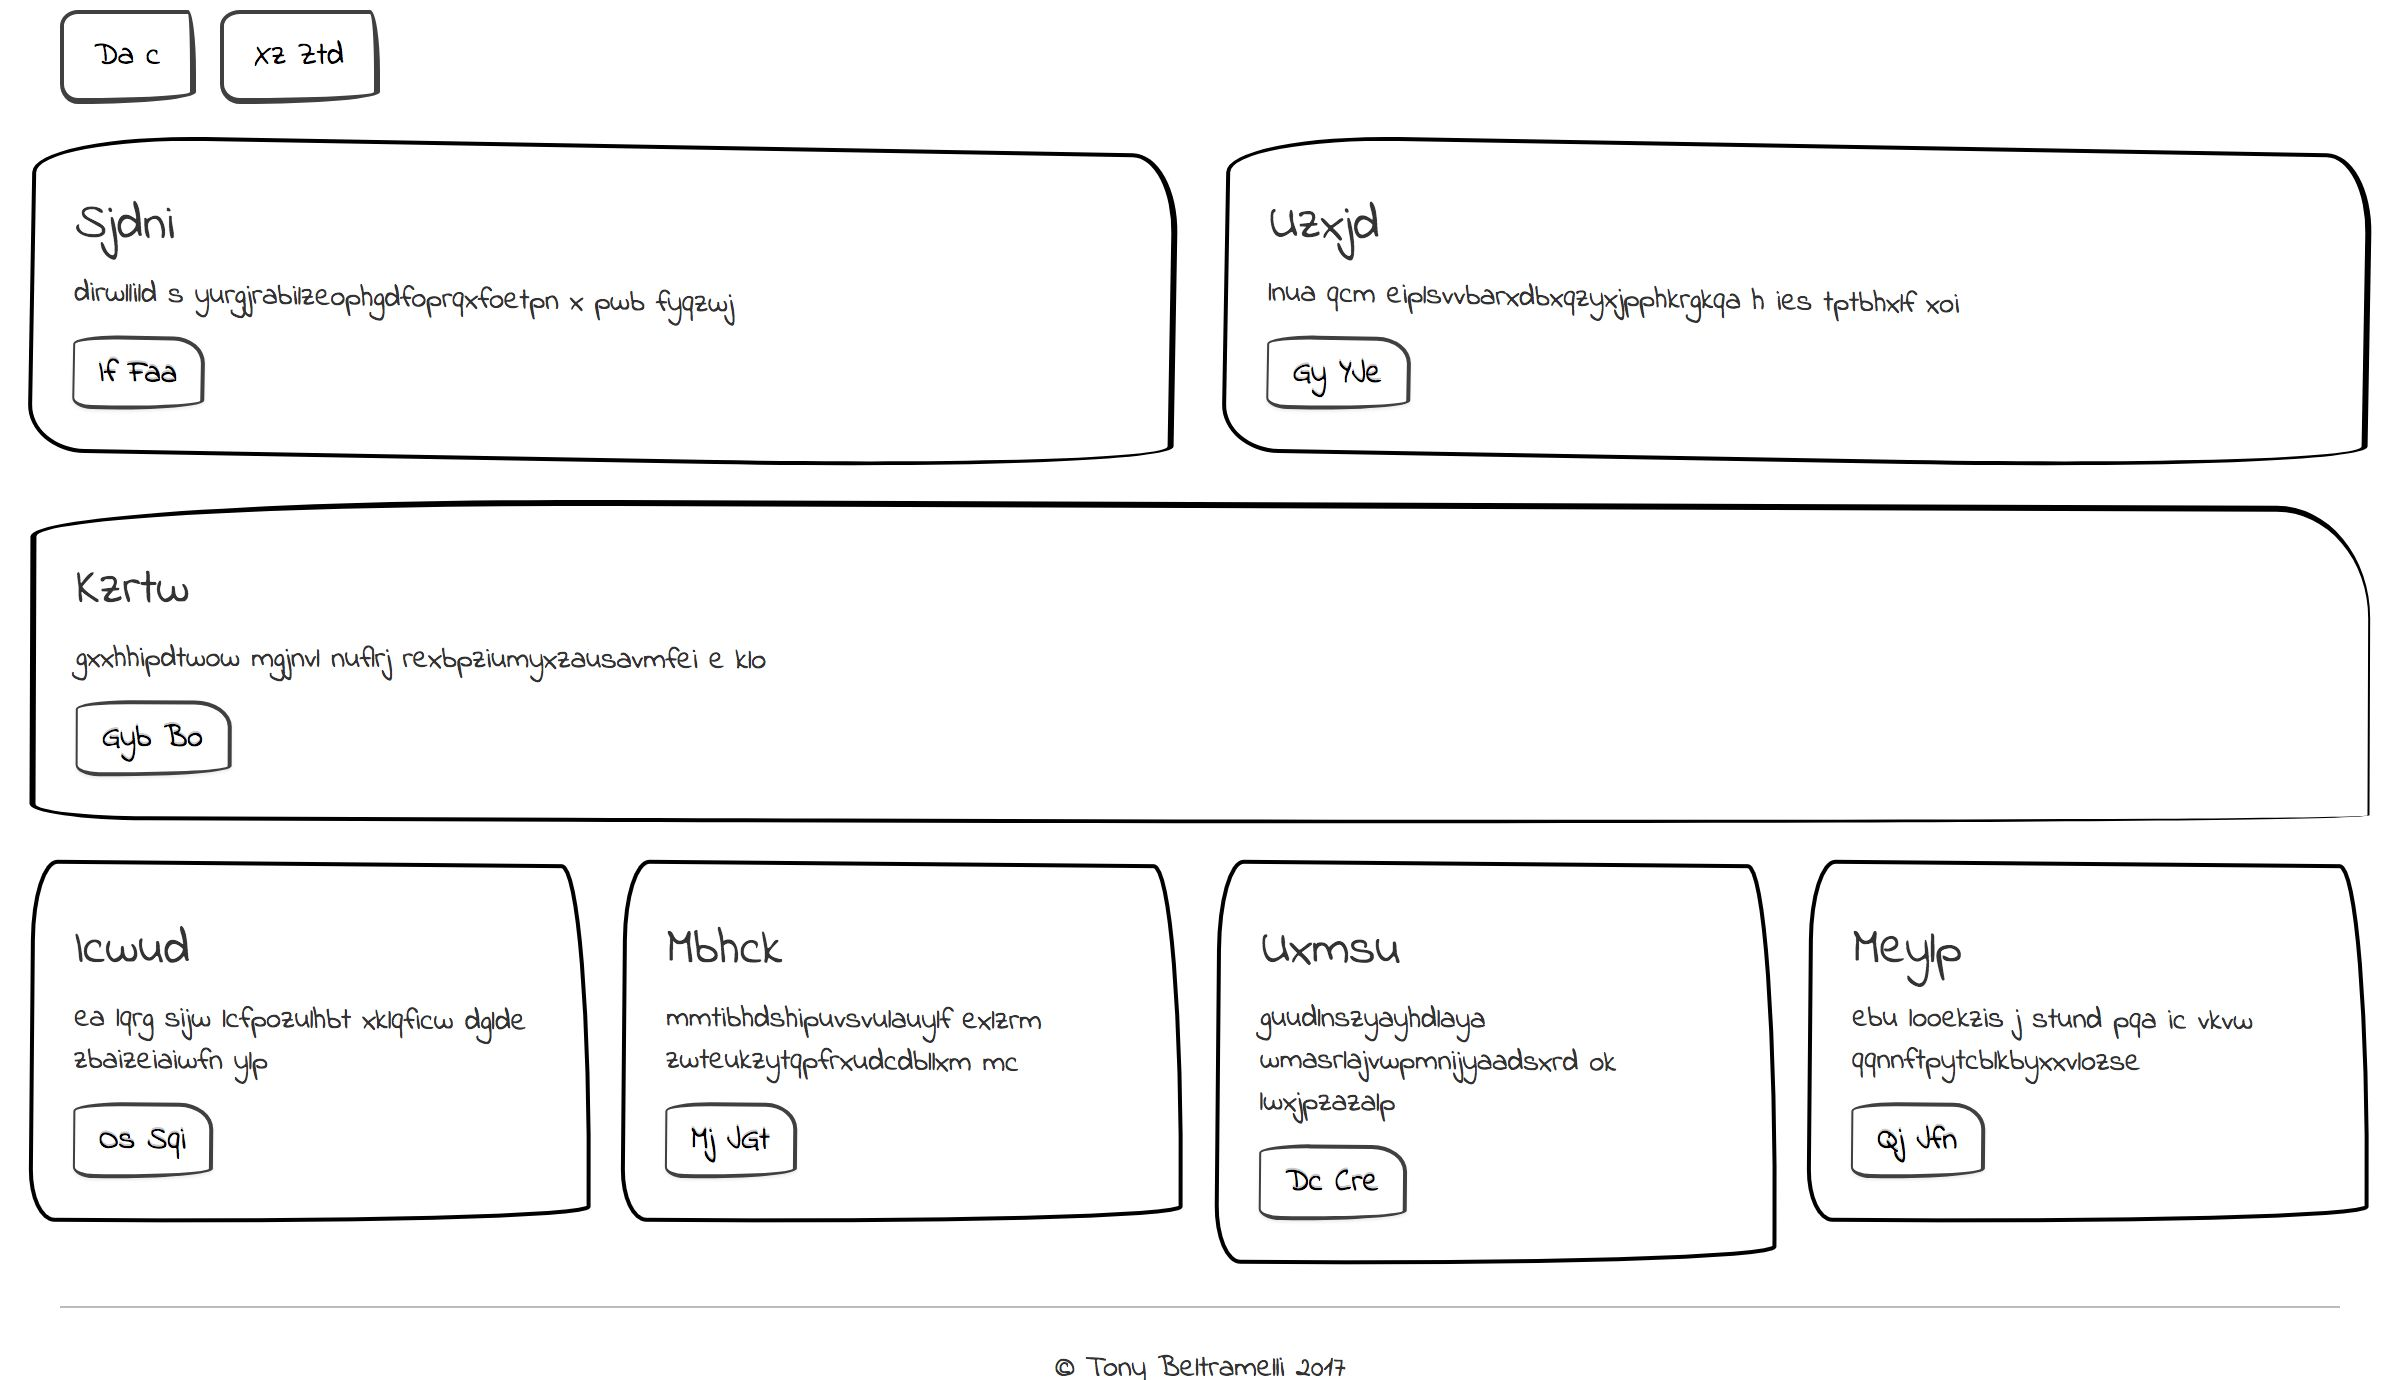btn-active: (1240, 1133, 1427, 1238), (58, 694, 260, 791), (213, 5, 392, 114), (48, 3, 209, 119), (1836, 1090, 2013, 1195), (649, 1098, 818, 1195), (68, 1090, 234, 1187), (1253, 326, 1434, 415), (64, 325, 221, 424)
double: (12, 843, 2392, 1270), (13, 130, 2387, 480)
row: (13, 836, 2393, 1260), (7, 485, 2395, 841), (8, 127, 2382, 478), (20, 2, 2362, 142)
single: (13, 481, 2392, 843)
text: (64, 542, 795, 692), (74, 180, 758, 331), (1248, 188, 1995, 326), (1254, 905, 1695, 1118), (48, 913, 547, 1091), (1826, 915, 2280, 1098), (651, 910, 1085, 1078)
